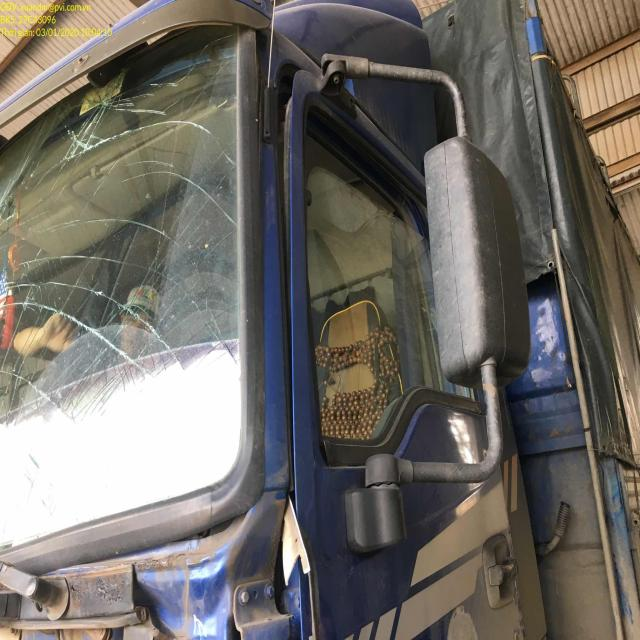Cabossage: (143, 558, 239, 640)
Fissure: (2, 51, 240, 534), (9, 274, 190, 381), (102, 124, 238, 248), (52, 124, 127, 182)
